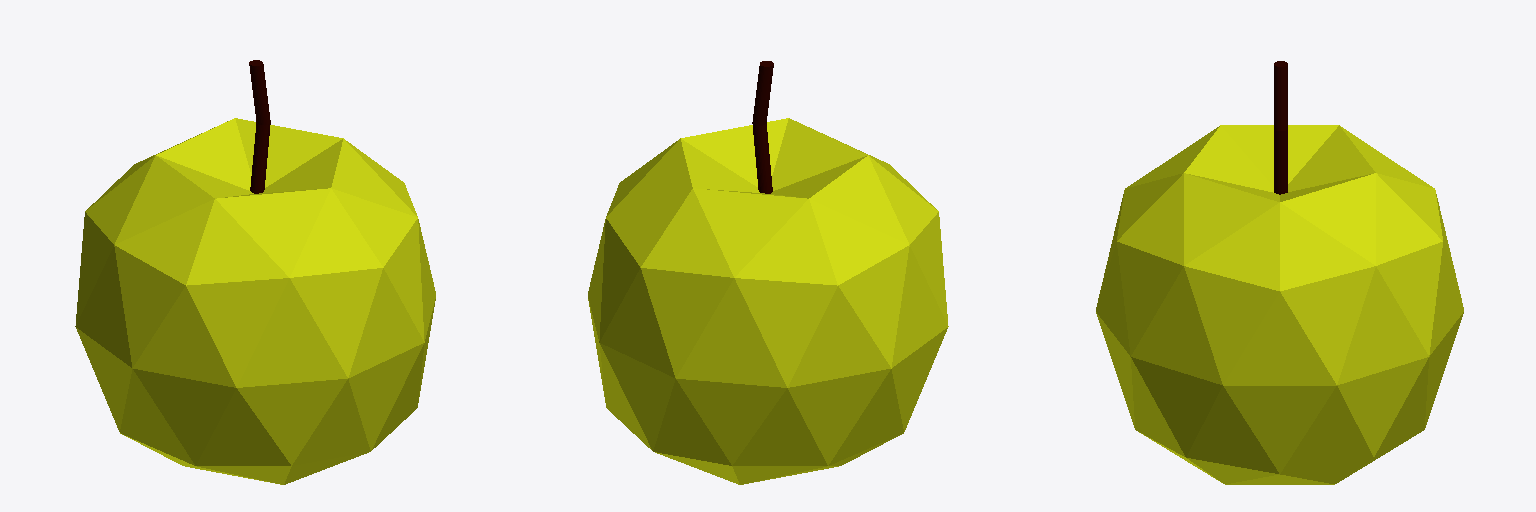
File: golden-apple.obj
The picture shows the model from 3 angles: view 1: azimuth 30°, elevation 25°; view 2: azimuth 150°, elevation 25°; view 3: azimuth 270°, elevation 25°; orthographic projection.
Visible parts, largest first — view 1: Icosphere, Cylinder; view 2: Icosphere, Cylinder; view 3: Icosphere, Cylinder.
Part boxes in pixels (left/top/right/bottom): Icosphere: left=75, top=118, right=435, bottom=484; Cylinder: left=249, top=60, right=270, bottom=193; Icosphere: left=588, top=118, right=948, bottom=484; Cylinder: left=752, top=61, right=773, bottom=193; Icosphere: left=1096, top=125, right=1463, bottom=484; Cylinder: left=1274, top=61, right=1287, bottom=194.
Size of the model in its own units: 1.96 by 2.37 by 2.06.